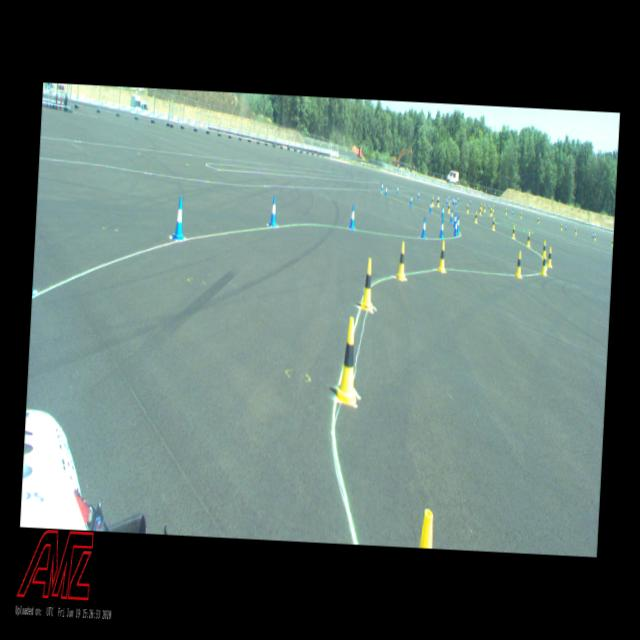blue_cone: (172, 197, 186, 240), (269, 195, 278, 228), (349, 204, 356, 230), (421, 217, 427, 239), (439, 219, 445, 239), (454, 218, 458, 236), (449, 209, 454, 223), (457, 215, 460, 232), (410, 194, 413, 206), (429, 201, 432, 213), (454, 212, 456, 228), (442, 205, 444, 218), (469, 197, 472, 205), (386, 185, 388, 196), (418, 190, 420, 200), (382, 182, 384, 192), (446, 197, 448, 206), (457, 194, 459, 203), (397, 186, 399, 194), (488, 202, 490, 210), (455, 198, 457, 206), (454, 198, 456, 206), (564, 223, 566, 230), (512, 209, 514, 216), (592, 232, 594, 238)
yellow_cone: (336, 316, 361, 406), (359, 258, 376, 310), (395, 241, 407, 280), (438, 241, 448, 273), (514, 252, 524, 278), (541, 252, 548, 275), (546, 247, 554, 267), (542, 240, 548, 258), (526, 232, 532, 248), (512, 225, 516, 239), (492, 218, 496, 231), (474, 211, 478, 223), (574, 228, 578, 235), (479, 207, 482, 216), (448, 202, 450, 214), (432, 196, 434, 207), (466, 204, 468, 214), (438, 197, 440, 207), (490, 208, 492, 217), (612, 238, 614, 247), (480, 202, 482, 211), (492, 204, 494, 213), (594, 234, 596, 242), (484, 204, 486, 212), (560, 223, 562, 231), (505, 208, 507, 215), (520, 212, 522, 219), (538, 218, 540, 225)
